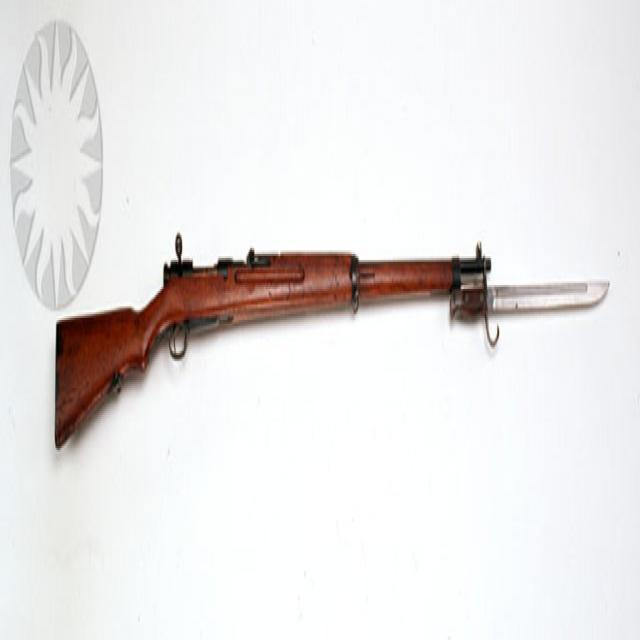weapon: (56, 236, 608, 438)
